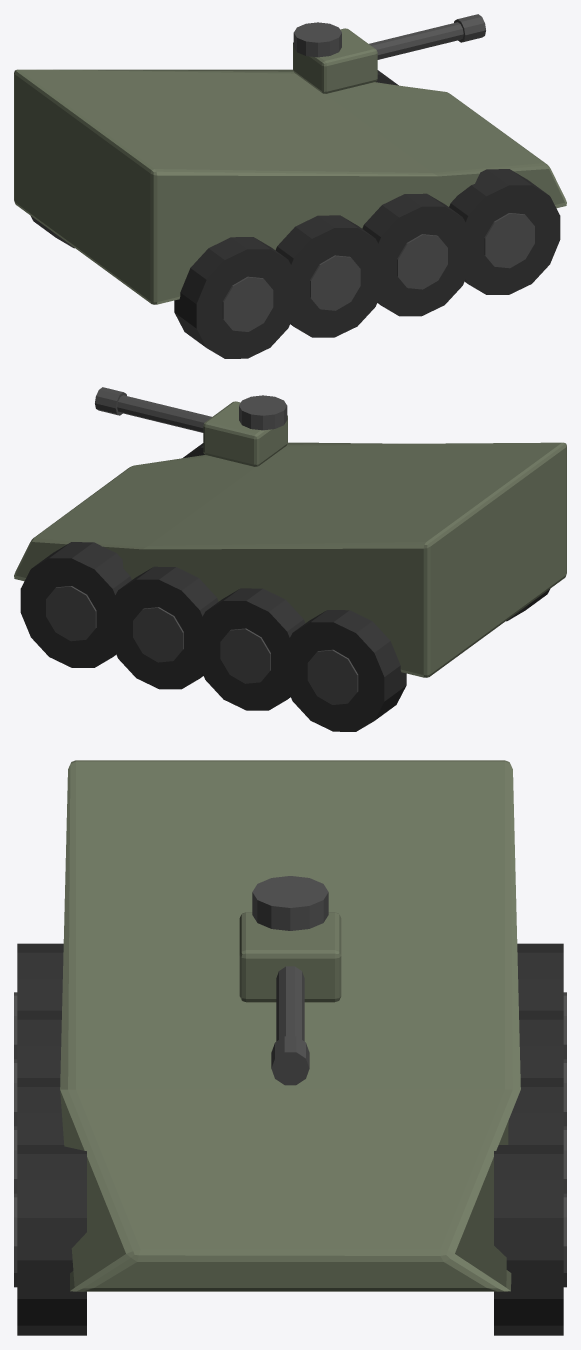
File: vehicle.glb
The picture shows the model from 3 angles, top to bottom: view 1: azimuth 30°, elevation 25°; view 2: azimuth 150°, elevation 25°; view 3: azimuth 270°, elevation 25°; orthographic projection. The views are drawn at different scales.
Visible parts, largest first — view 1: vehicle; view 2: vehicle; view 3: vehicle.
Boxes of the visible parts, box(x1,y1,x2,y2) form: vehicle: box(14, 14, 566, 358); vehicle: box(14, 387, 566, 731); vehicle: box(14, 760, 566, 1335).
Bounding box in the file's own units: 2.4 × 1.23 × 1.74.
